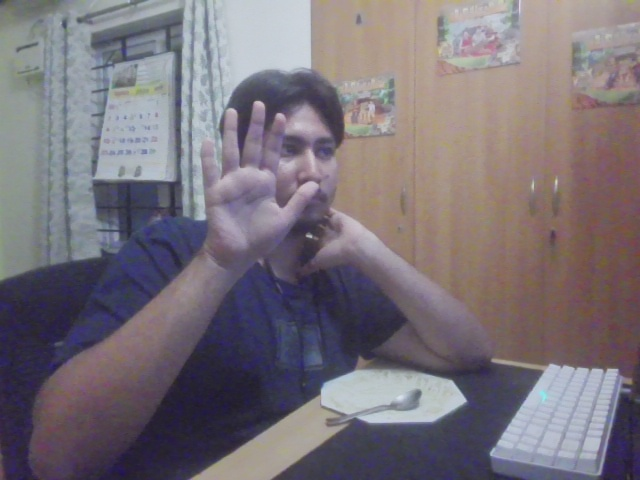hello: (198, 100, 320, 269)
